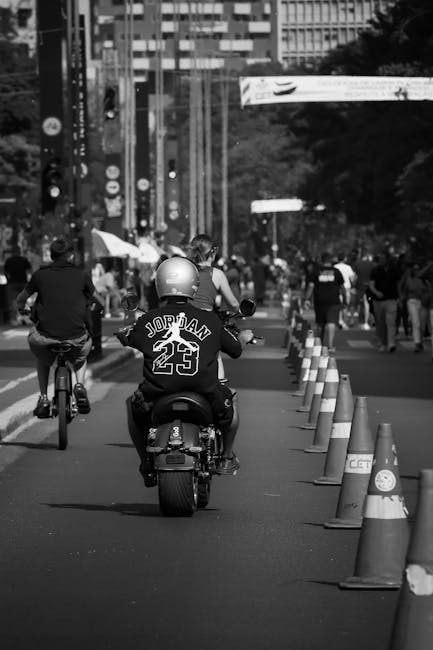traffic_cone: (337, 422, 411, 591), (389, 468, 432, 649), (323, 396, 376, 530), (313, 374, 355, 486), (303, 356, 340, 453), (301, 355, 330, 430), (296, 338, 323, 412), (292, 334, 316, 398)
